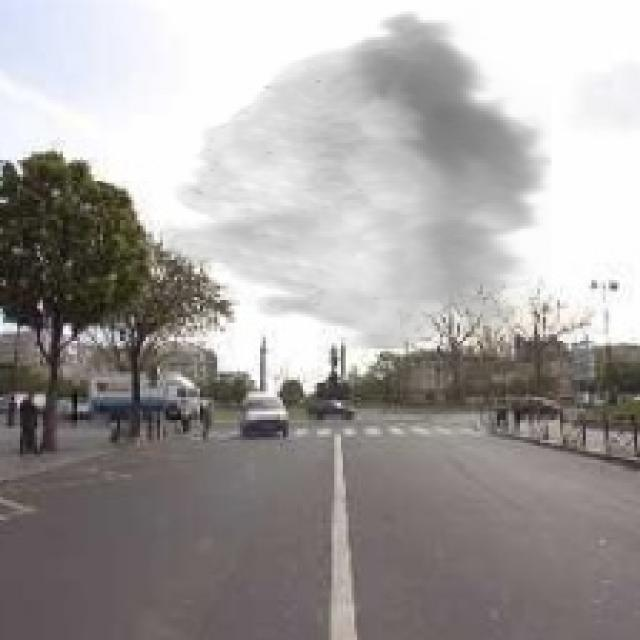Smoke: (159, 6, 552, 348)
